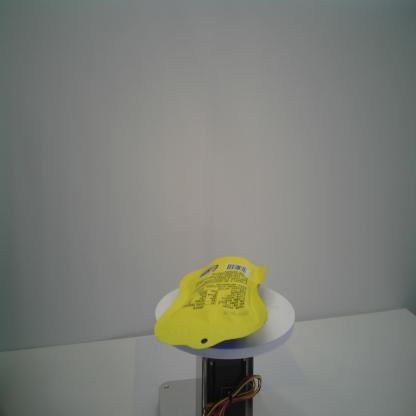Dried Fruit: (151, 254, 271, 352)
